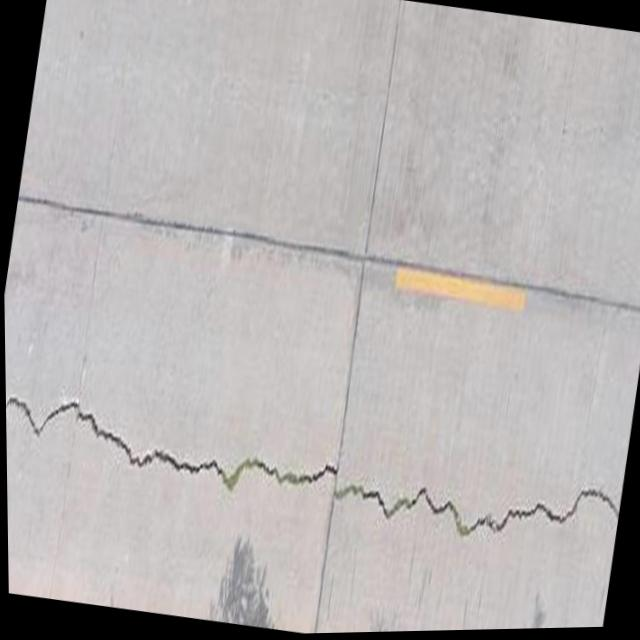Crack: (4, 366, 624, 583)
